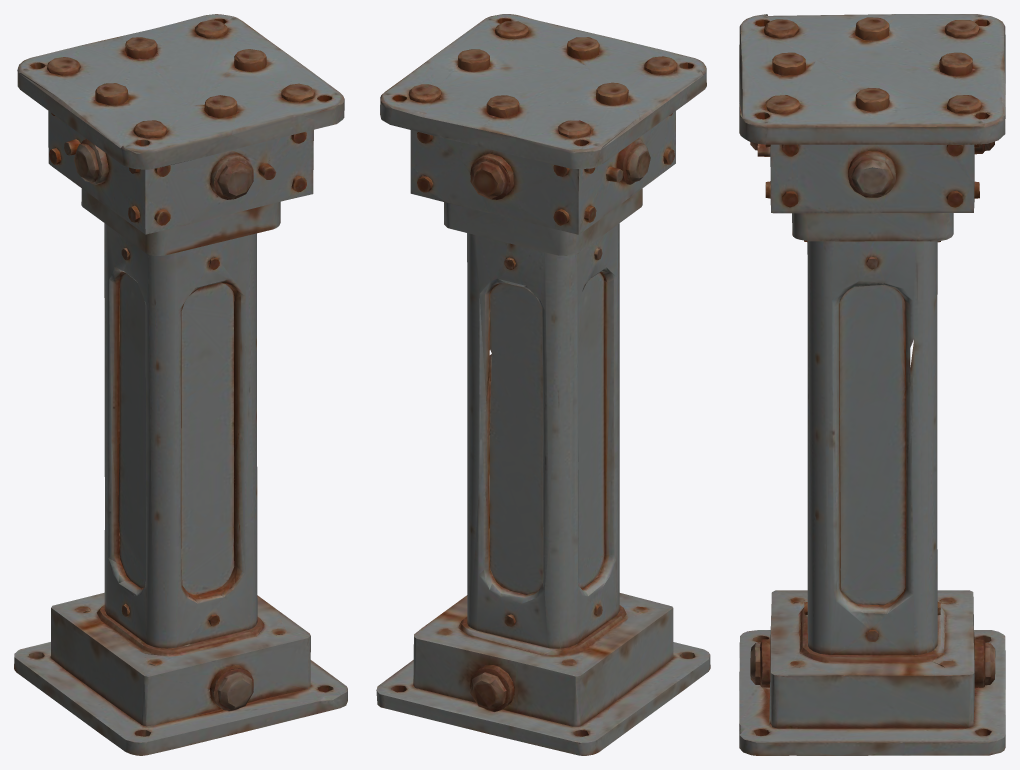
Rendered from steel_belt_post.glb.
3 renders of one model, left to right at view 1: azimuth 30°, elevation 25°; view 2: azimuth 150°, elevation 25°; view 3: azimuth 270°, elevation 25°, orthographic. The views are drawn at different scales.
Parts seen in each view (by area): view 1: main; view 2: main; view 3: main.
Boxes of the visible parts, box(x1,y1,x2,y2) form: main: box(14, 14, 347, 755); main: box(376, 14, 710, 755); main: box(739, 14, 1005, 755).
Bounding box in the file's own units: 1.03 × 2.74 × 1.03.
Materials: 1 (1 with a texture image).
